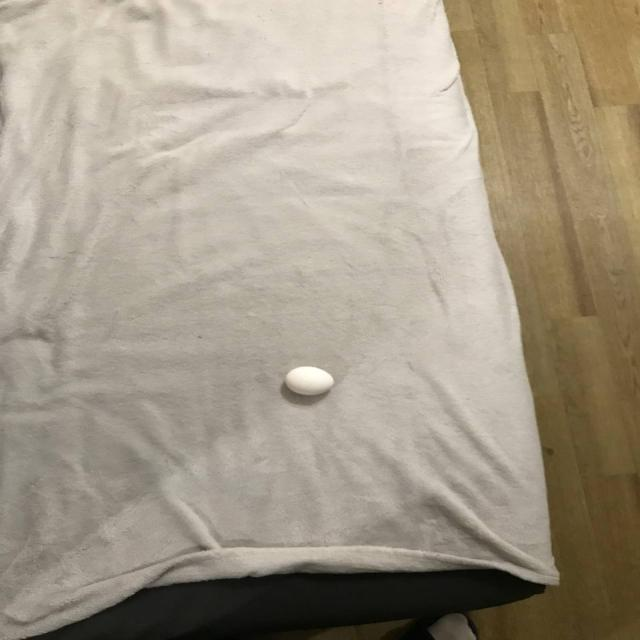egg: (284, 366, 336, 396)
